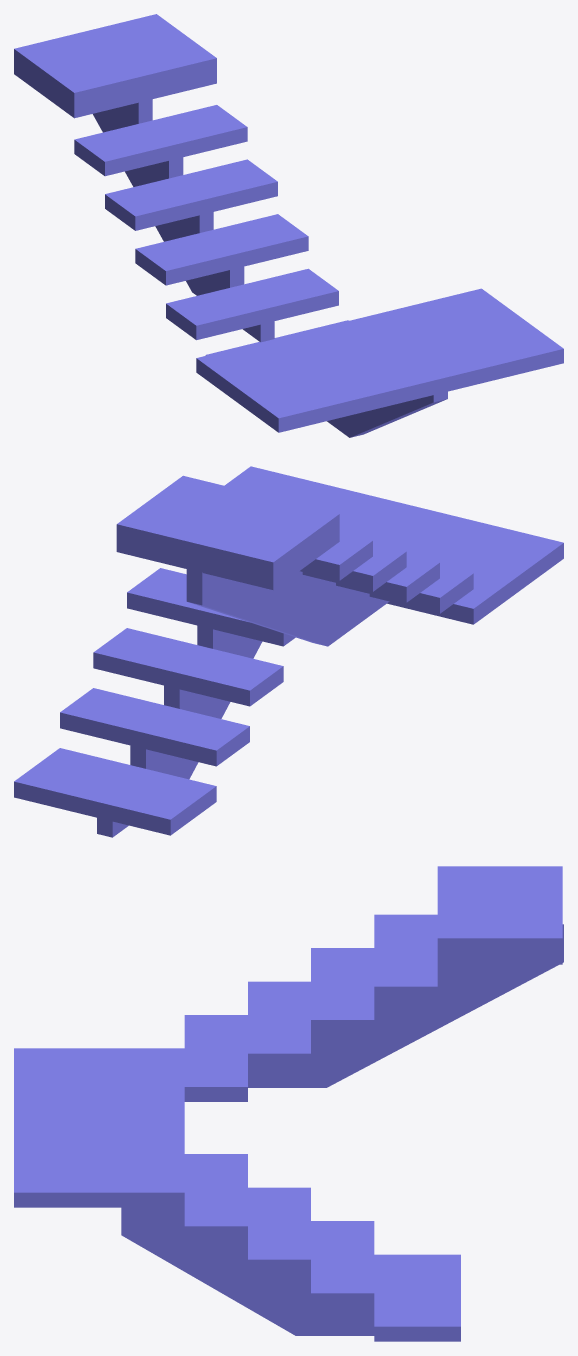
Rendered from Stair.fbx.
3 views of the same model, one above another, from view 1: azimuth 30°, elevation 25°; view 2: azimuth 150°, elevation 25°; view 3: azimuth 270°, elevation 25° (orthographic). The views are drawn at different scales.
Parts seen in each view (by area): view 1: Stair; view 2: Stair; view 3: Stair.
Part boxes in pixels (x1,y1,x2,y2): Stair: (14, 14, 563, 437); Stair: (14, 466, 563, 837); Stair: (14, 866, 563, 1341).
Bounding box in the file's own units: 300 × 348 × 484.
